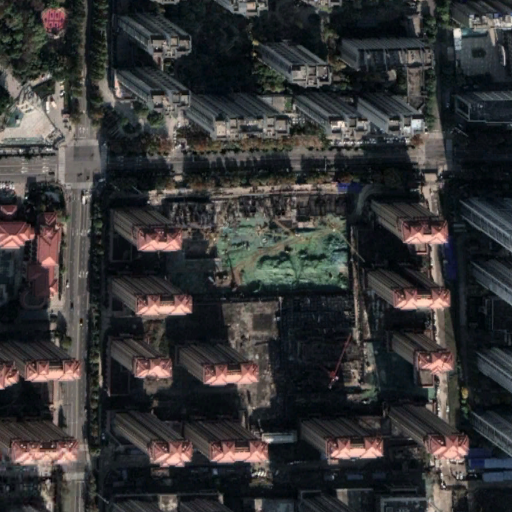cw: (211, 214, 352, 296)
